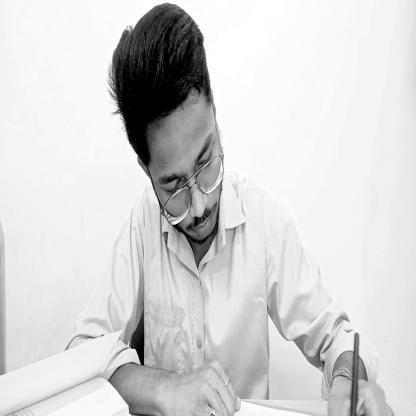Distracted: (110, 11, 223, 253)
